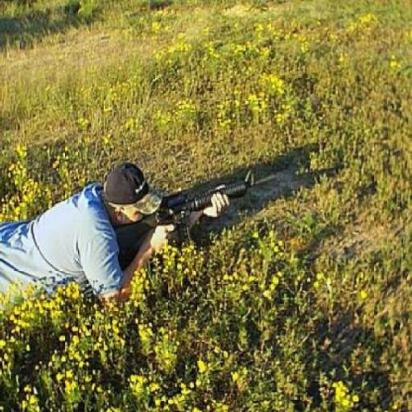Gun: (155, 172, 281, 245)
